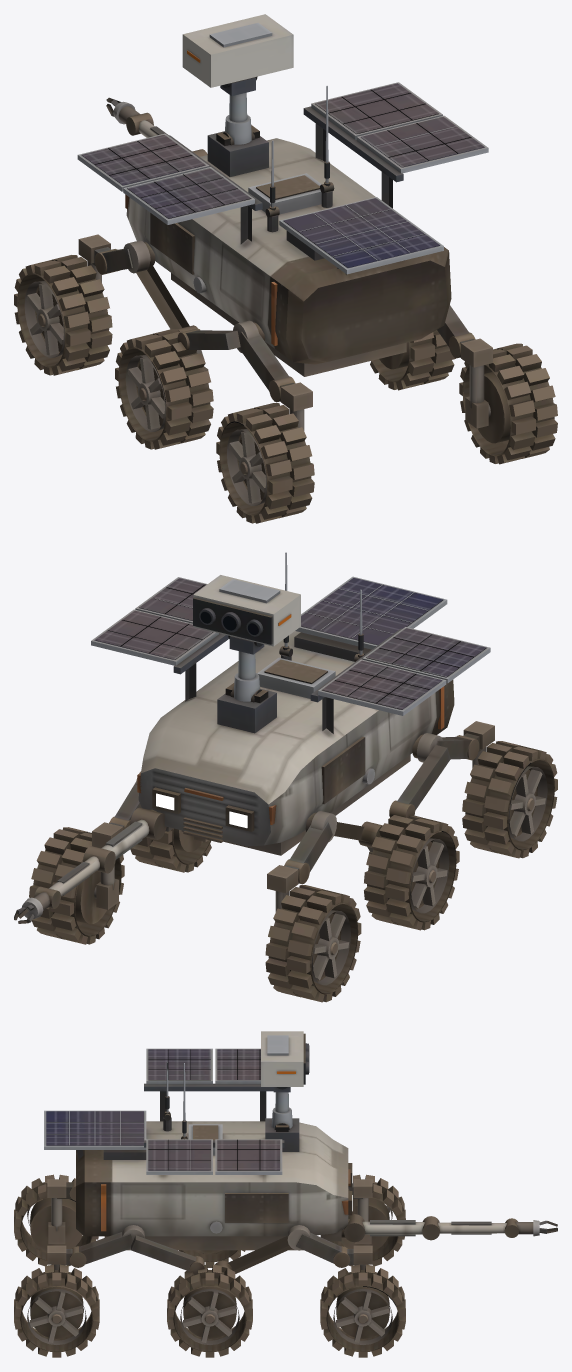
The model's file is rover-orv7.glb.
3 renders of one model, top to bottom at view 1: azimuth 30°, elevation 25°; view 2: azimuth 150°, elevation 25°; view 3: azimuth 270°, elevation 25°, orthographic. The views are drawn at different scales.
Parts seen in each view (by area): view 1: Body, Wheel_FL, Wheel_RL, Wheel_ML, Wheel_RR, Head, Panel_L2, Panel_R2, Panel_L1, Panel_R1, Wheel_MR, Leg_RL (+6 smaller); view 2: Body, Wheel_FL, Wheel_RL, Wheel_ML, Wheel_FR, Head, Panel_L1, Panel_R1, Panel_L2, Leg_FL, Wheel_MR, Leg_FR (+9 smaller); view 3: Body, Wheel_FR, Wheel_RR, Wheel_MR, Wheel_RL, Head, Panel_R1, Panel_L2, Panel_R2, Wheel_FL, Leg_RR, Leg_FR (+11 smaller).
Boxes of the visible parts, x1,y1,x2,y2 form: Body: [125, 106, 451, 376]; Wheel_FL: [14, 255, 112, 375]; Wheel_RL: [216, 403, 314, 523]; Wheel_ML: [115, 329, 213, 449]; Wheel_RR: [459, 343, 557, 464]; Head: [182, 14, 293, 88]; Panel_L2: [123, 167, 254, 224]; Panel_R2: [356, 115, 488, 173]; Panel_L1: [77, 133, 209, 191]; Panel_R1: [311, 82, 442, 139]; Wheel_MR: [370, 330, 455, 390]; Leg_RL: [233, 320, 312, 430]; Body: [137, 576, 454, 855]; Wheel_FL: [265, 885, 361, 1002]; Wheel_RL: [462, 741, 557, 858]; Wheel_ML: [364, 815, 459, 930]; Wheel_FR: [29, 827, 124, 944]; Head: [193, 575, 300, 646]; Panel_L1: [318, 659, 446, 715]; Panel_R1: [91, 609, 218, 665]; Panel_L2: [362, 627, 490, 683]; Leg_FL: [267, 811, 336, 911]; Wheel_MR: [130, 828, 211, 872]; Leg_FR: [92, 771, 141, 909]; Body: [44, 1083, 352, 1250]; Wheel_FR: [320, 1264, 405, 1357]; Wheel_RR: [14, 1264, 99, 1357]; Wheel_MR: [167, 1264, 252, 1357]; Wheel_RL: [14, 1174, 98, 1266]; Head: [261, 1031, 309, 1089]; Panel_R1: [215, 1139, 282, 1174]; Panel_L2: [146, 1048, 212, 1084]; Panel_R2: [146, 1139, 212, 1174]; Wheel_FL: [330, 1174, 405, 1266]; Leg_RR: [47, 1225, 144, 1269]; Leg_FR: [287, 1225, 372, 1269].
Size of the model in its own units: 1.32 by 1.35 by 2.56.
2 materials, 1 textured.
